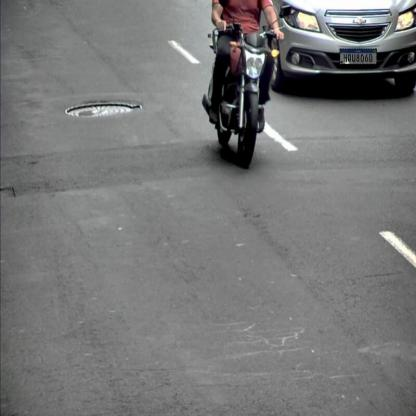PlacaM: (340, 48, 377, 64)
